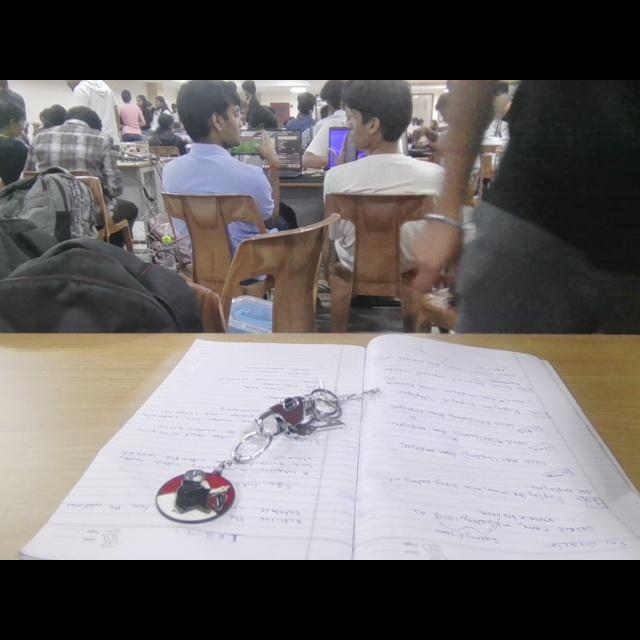keys: (153, 377, 383, 527)
